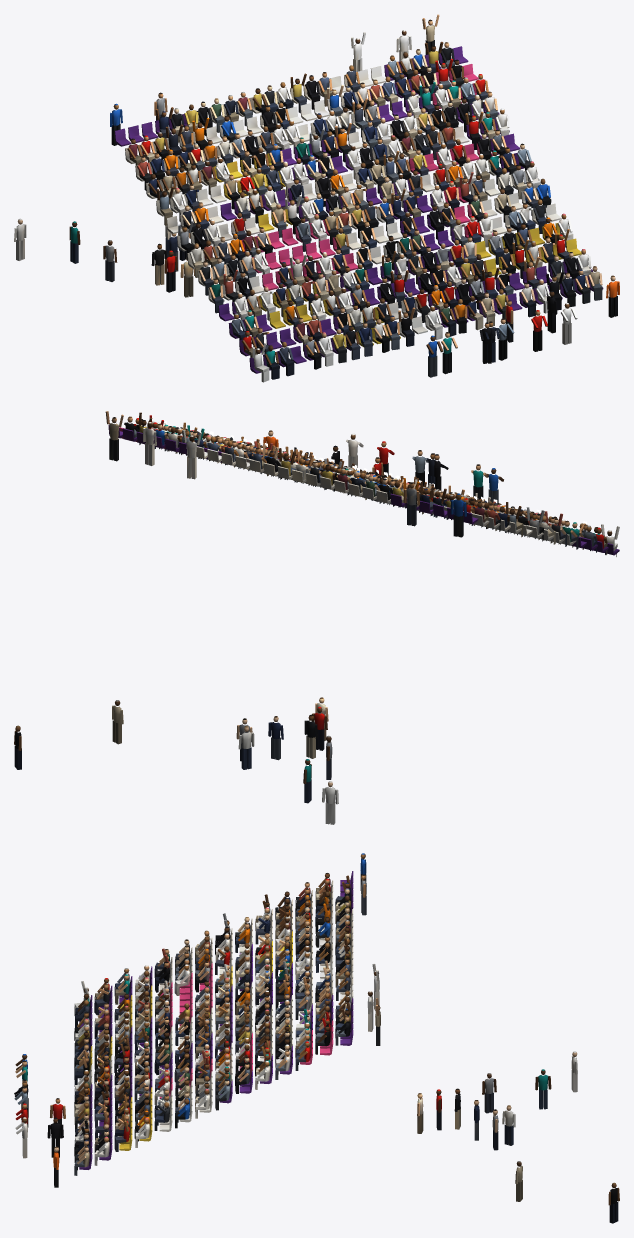
File: stand_main_kit_6.glb
3 views of the same model, one above another, from view 1: azimuth 30°, elevation 25°; view 2: azimuth 150°, elevation 25°; view 3: azimuth 270°, elevation 25° (orthographic). The views are drawn at different scales.
Parts seen in each view (by area): view 1: kit_6; view 2: kit_6; view 3: kit_6.
Boxes of the visible parts, left/top/right/bottom form: kit_6: left=14, top=14, right=619, bottom=382; kit_6: left=14, top=411, right=619, bottom=824; kit_6: left=14, top=853, right=619, bottom=1223.
Size of the model in its own units: 15.82 by 10.3 by 24.14.
